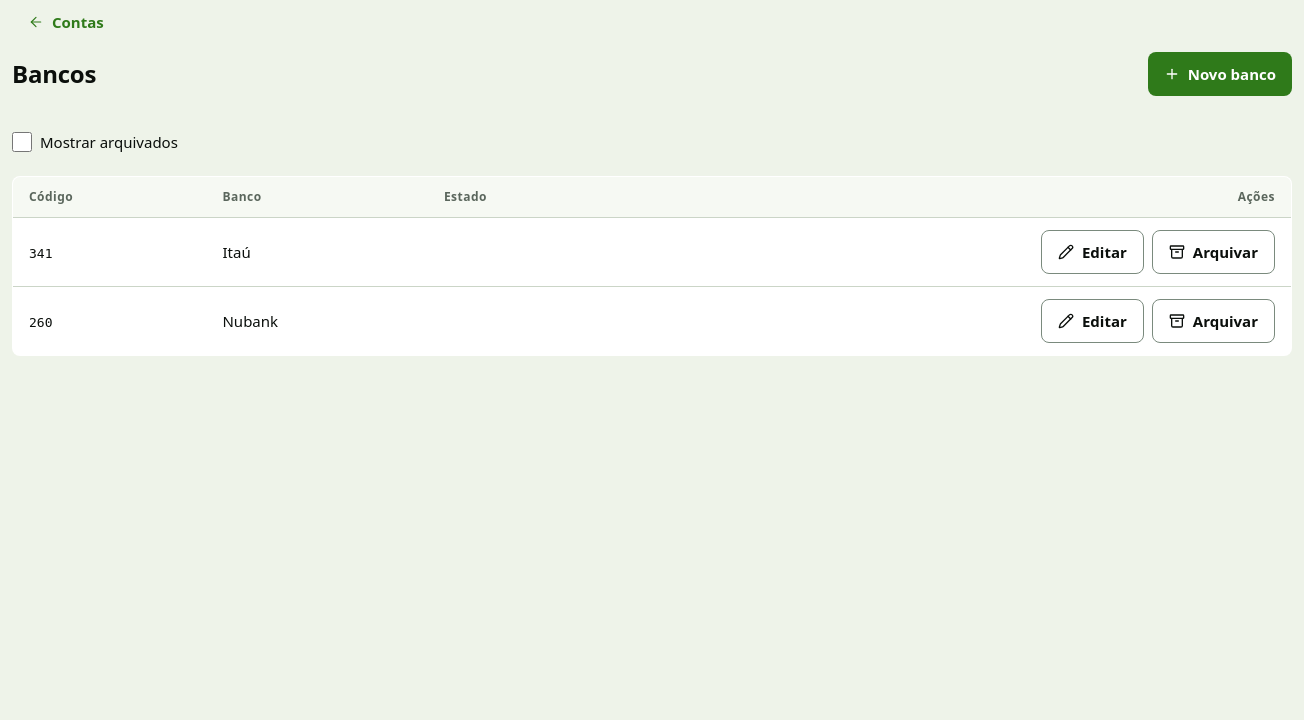
it: write controls with accounts.write (ADMIN) › shows a generic message when archiving fails without an API error
This screenshot has width=1304, height=720.
Click the button with aria-label "Arquivar Itaú".
click(1213, 252)  # box [1152,230,1275,274]
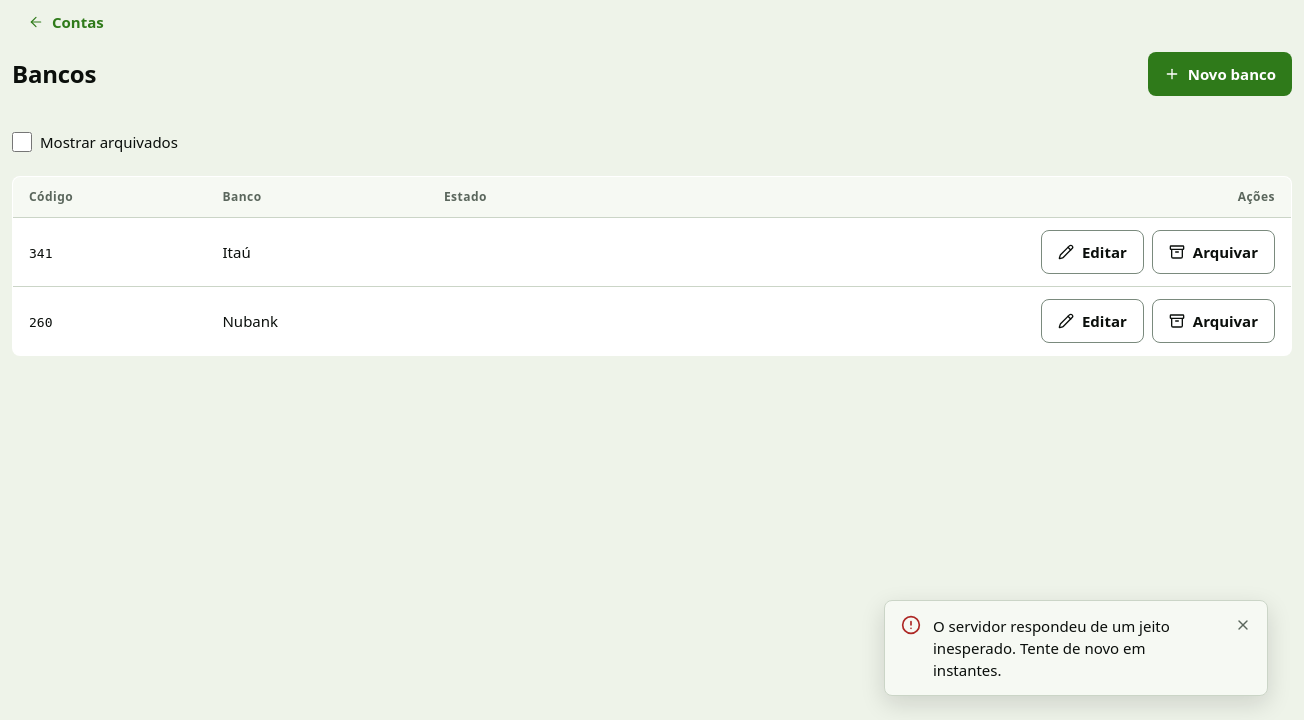
Now the text "O servidor respondeu de um jeito inesperado. Tente de novo em instantes." is shown, box [933,616,1170,680]
